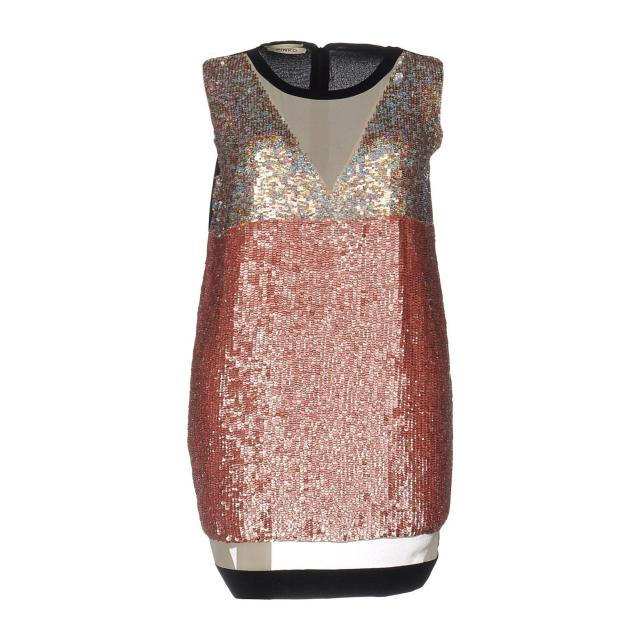Dress: (188, 34, 461, 604)
